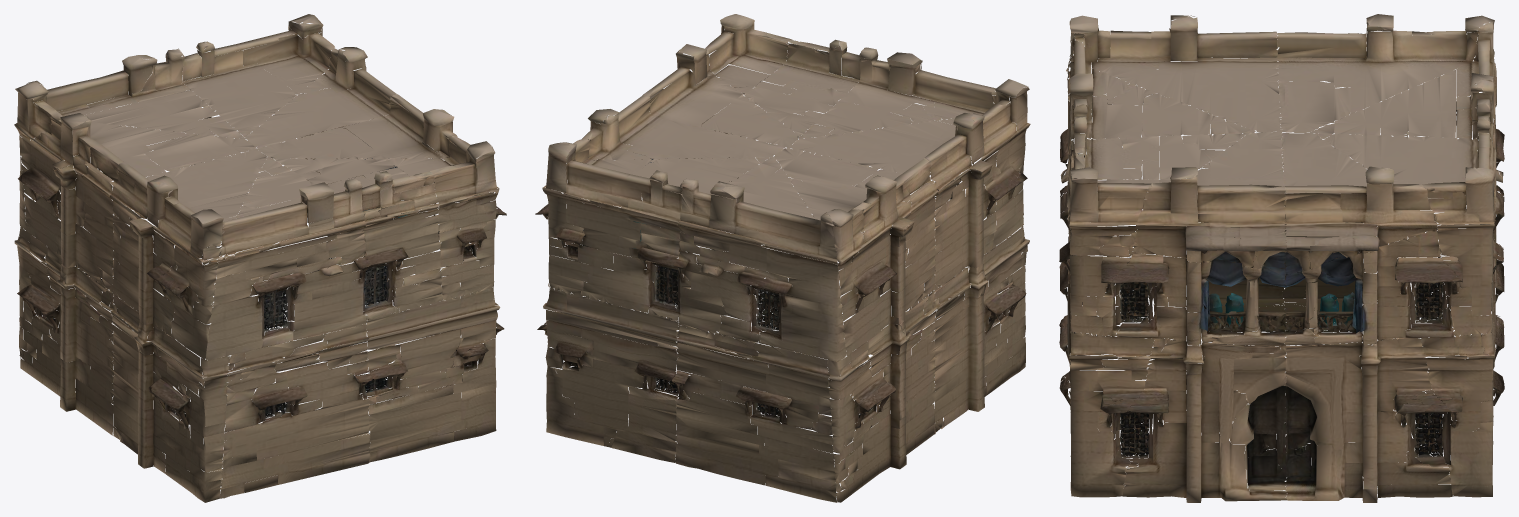
File: sandstone_caravan_house.glb
3 views of the same model, side by side, from view 1: azimuth 30°, elevation 25°; view 2: azimuth 150°, elevation 25°; view 3: azimuth 270°, elevation 25° (orthographic). The views are drawn at different scales.
Parts seen in each view (by area): view 1: tripo_node_4818da9e-601d-4a0d-b9a2-3393f3dd1078; view 2: tripo_node_4818da9e-601d-4a0d-b9a2-3393f3dd1078; view 3: tripo_node_4818da9e-601d-4a0d-b9a2-3393f3dd1078.
Part boxes in pixels (x1,y1,x2,y2): tripo_node_4818da9e-601d-4a0d-b9a2-3393f3dd1078: (14,14,506,502); tripo_node_4818da9e-601d-4a0d-b9a2-3393f3dd1078: (535,14,1030,502); tripo_node_4818da9e-601d-4a0d-b9a2-3393f3dd1078: (1059,14,1504,502).
Bounding box in the file's own units: 11.17 × 9.04 × 11.28.
Materials: 1 (1 with a texture image).
